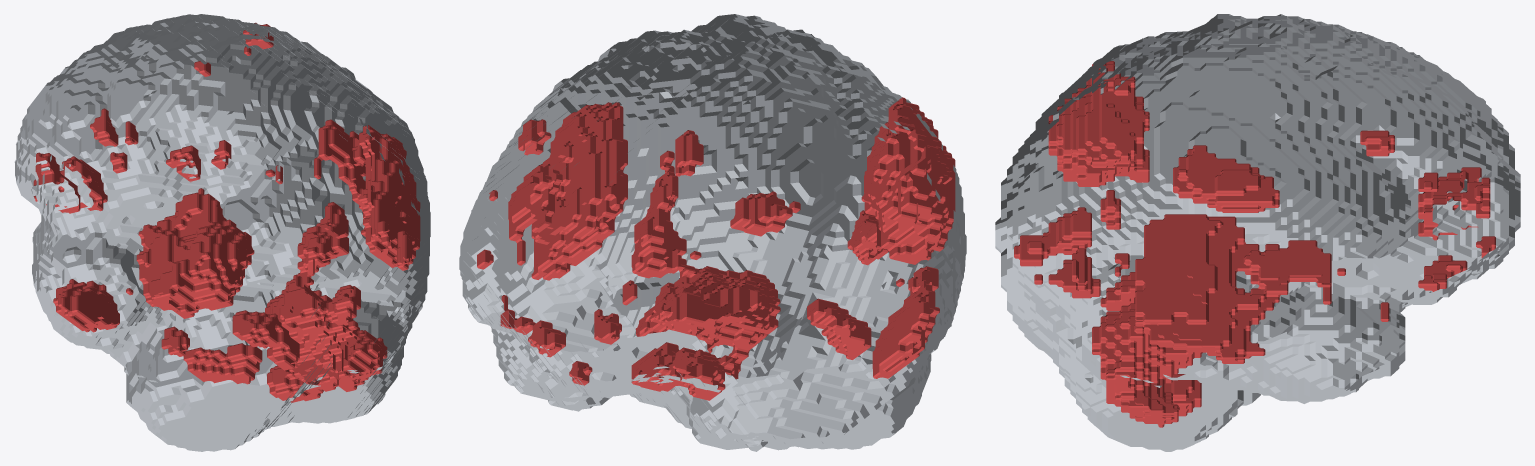
Rendered from brain_tumor_ar.glb.
3 renders of one model, left to right at view 1: azimuth 30°, elevation 25°; view 2: azimuth 150°, elevation 25°; view 3: azimuth 270°, elevation 25°, orthographic. The views are drawn at different scales.
Visible parts, largest first — view 1: translucent_brain, predicted_tumor_WT; view 2: translucent_brain, predicted_tumor_WT; view 3: translucent_brain, predicted_tumor_WT.
Boxes of the visible parts, bbox=[...] form: translucent_brain: bbox=[14, 14, 430, 451]; predicted_tumor_WT: bbox=[33, 22, 420, 402]; translucent_brain: bbox=[459, 14, 966, 451]; predicted_tumor_WT: bbox=[477, 97, 955, 400]; translucent_brain: bbox=[995, 14, 1520, 451]; predicted_tumor_WT: bbox=[1014, 61, 1495, 427].
Bounding box in the file's own units: 0.144 × 0.138 × 0.182.
